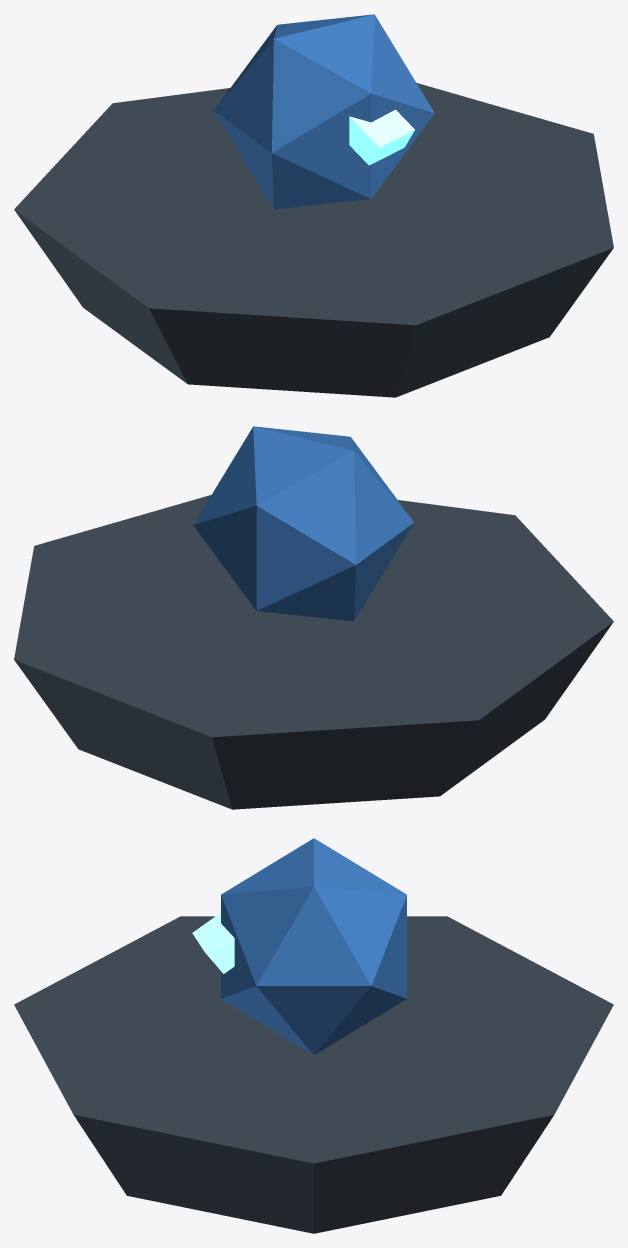
Rendered from blue_marble.glb.
3 renders of one model, top to bottom at view 1: azimuth 30°, elevation 25°; view 2: azimuth 150°, elevation 25°; view 3: azimuth 270°, elevation 25°, orthographic.
Visible parts, largest first — view 1: blue_marble; view 2: blue_marble; view 3: blue_marble.
Boxes of the visible parts, bbox=[...] form: blue_marble: bbox=[14, 14, 613, 397]; blue_marble: bbox=[14, 426, 613, 809]; blue_marble: bbox=[14, 838, 613, 1233].
Bounding box in the file's own units: 0.0855 × 0.0436 × 0.0877.
